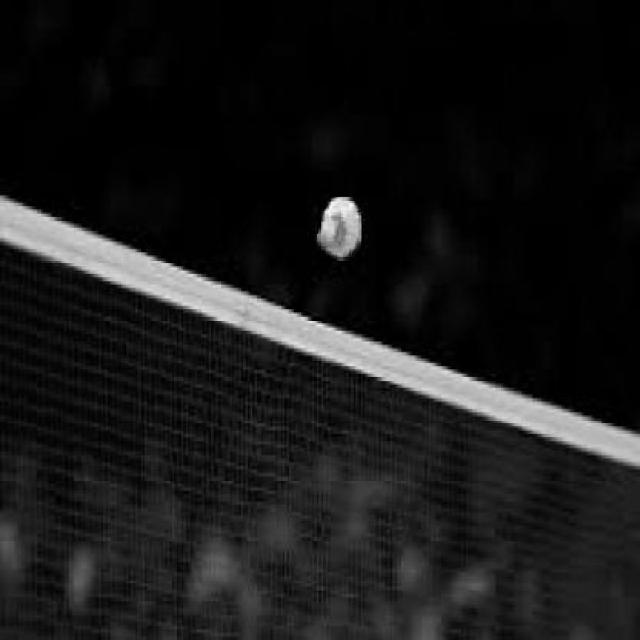Shuttlecock: (315, 197, 360, 262)
